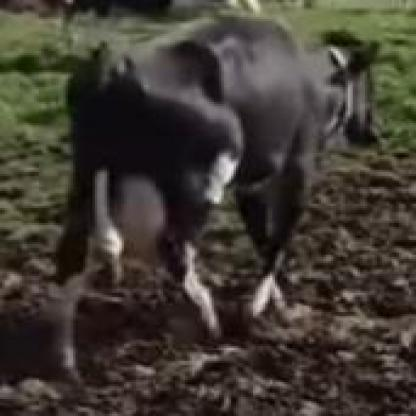cow: (55, 12, 373, 387)
